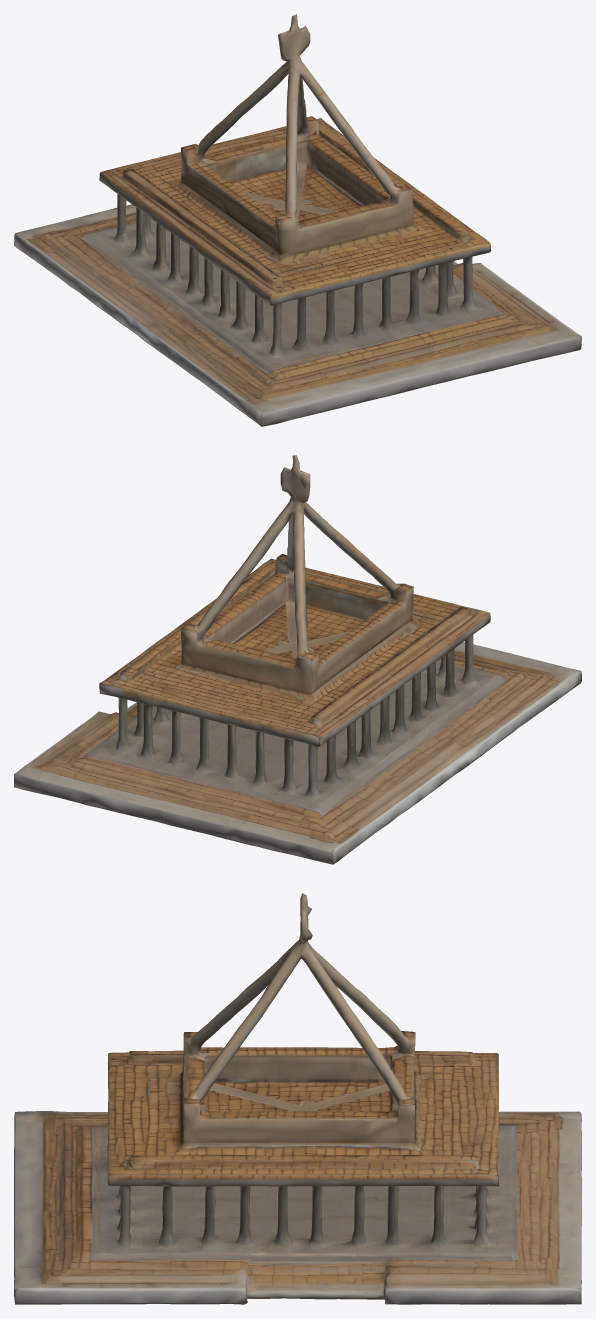
Rendered from acdeb3cd-eabd-4535-a49e-b287e1fb4b52.glb.
The picture shows the model from 3 angles, top to bottom: view 1: azimuth 30°, elevation 25°; view 2: azimuth 150°, elevation 25°; view 3: azimuth 270°, elevation 25°; orthographic projection. The views are drawn at different scales.
Bounding box in the file's own units: 1.5 × 1.26 × 2.01.
1 material, 1 textured.
